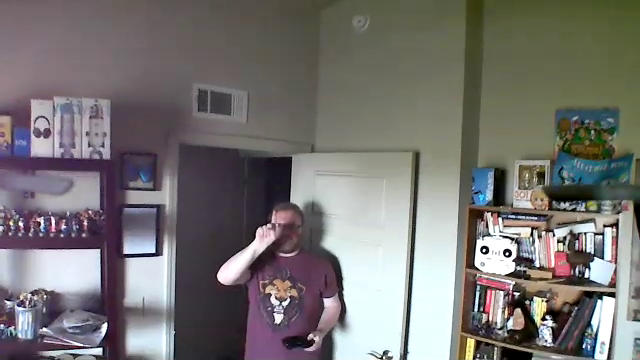up: (255, 206, 279, 246)
